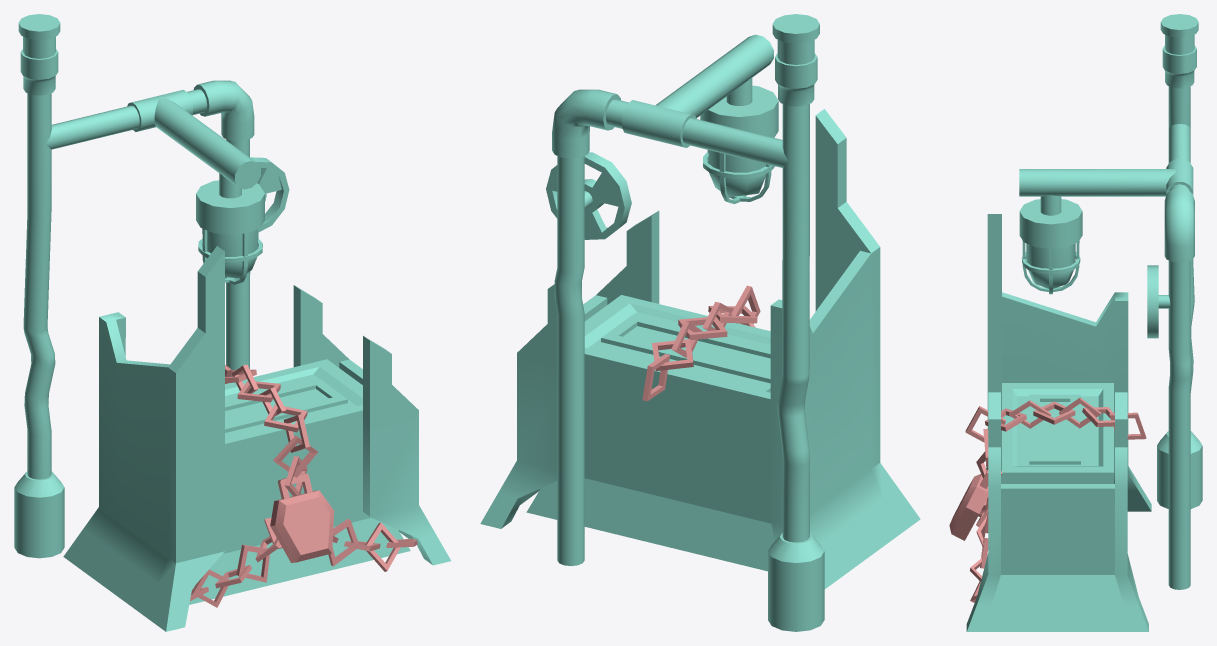
The model's file is Chest.fbx.
3 views of the same model, side by side, from view 1: azimuth 30°, elevation 25°; view 2: azimuth 150°, elevation 25°; view 3: azimuth 270°, elevation 25° (orthographic). The views are drawn at different scales.
Parts seen in each view (by area): view 1: Chest, ChainLocks; view 2: Chest, ChainLocks; view 3: Chest, ChainLocks.
Part boxes in pixels (x1,y1,x2,y2): Chest: [14, 14, 451, 631]; ChainLocks: [190, 364, 417, 607]; Chest: [480, 14, 920, 631]; ChainLocks: [642, 285, 760, 401]; Chest: [966, 14, 1202, 631]; ChainLocks: [949, 397, 1146, 602].
Bounding box in the file's own units: 121 × 191 × 91.69.
